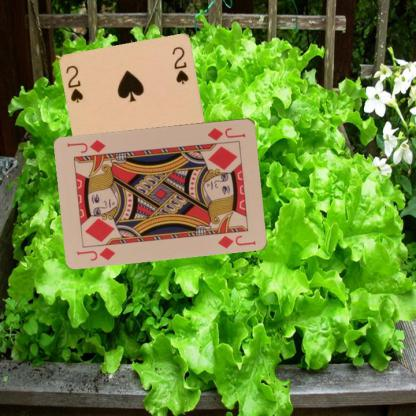2s: (63, 63, 85, 105)
Jd: (74, 244, 117, 262), (205, 124, 247, 142)
